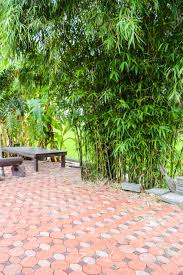bamboo: (83, 2, 180, 187), (2, 1, 77, 144)
